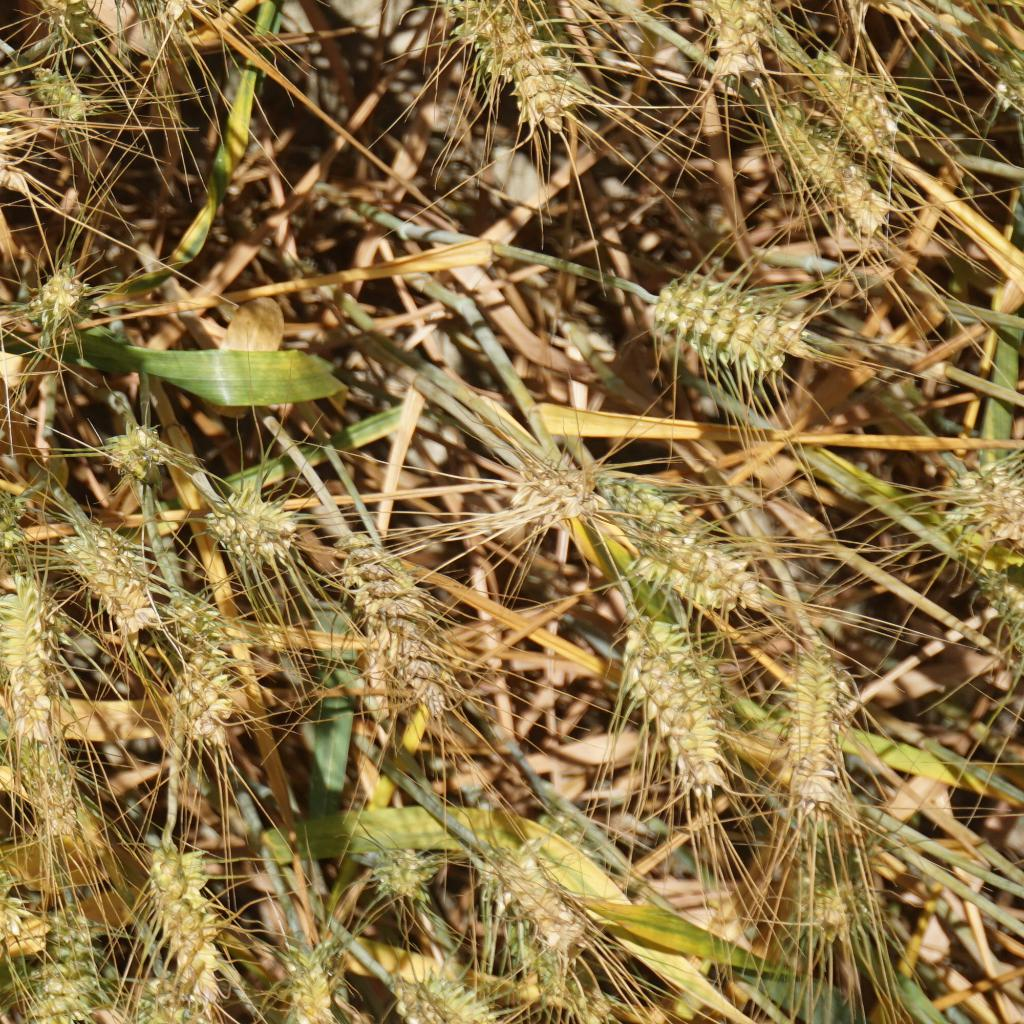0-0: (606, 608, 740, 830), (337, 523, 463, 730), (766, 621, 872, 839), (647, 263, 804, 392), (440, 0, 585, 135), (49, 517, 173, 645), (465, 837, 596, 956), (775, 110, 883, 235), (198, 466, 311, 584), (791, 830, 902, 949), (153, 837, 236, 995), (812, 48, 906, 156), (630, 535, 763, 607), (29, 904, 107, 1024), (0, 576, 54, 733), (512, 438, 593, 538), (595, 468, 692, 541), (698, 0, 769, 94), (166, 653, 240, 743), (0, 58, 43, 209), (272, 929, 340, 1024), (19, 738, 84, 837), (391, 964, 479, 1024), (97, 414, 171, 483), (365, 847, 446, 908), (962, 460, 1024, 533), (33, 59, 97, 128), (163, 585, 223, 647), (25, 267, 89, 324), (980, 562, 1024, 639), (126, 963, 177, 1024), (88, 0, 203, 24), (0, 822, 23, 933), (30, 0, 93, 39), (0, 480, 24, 552)
